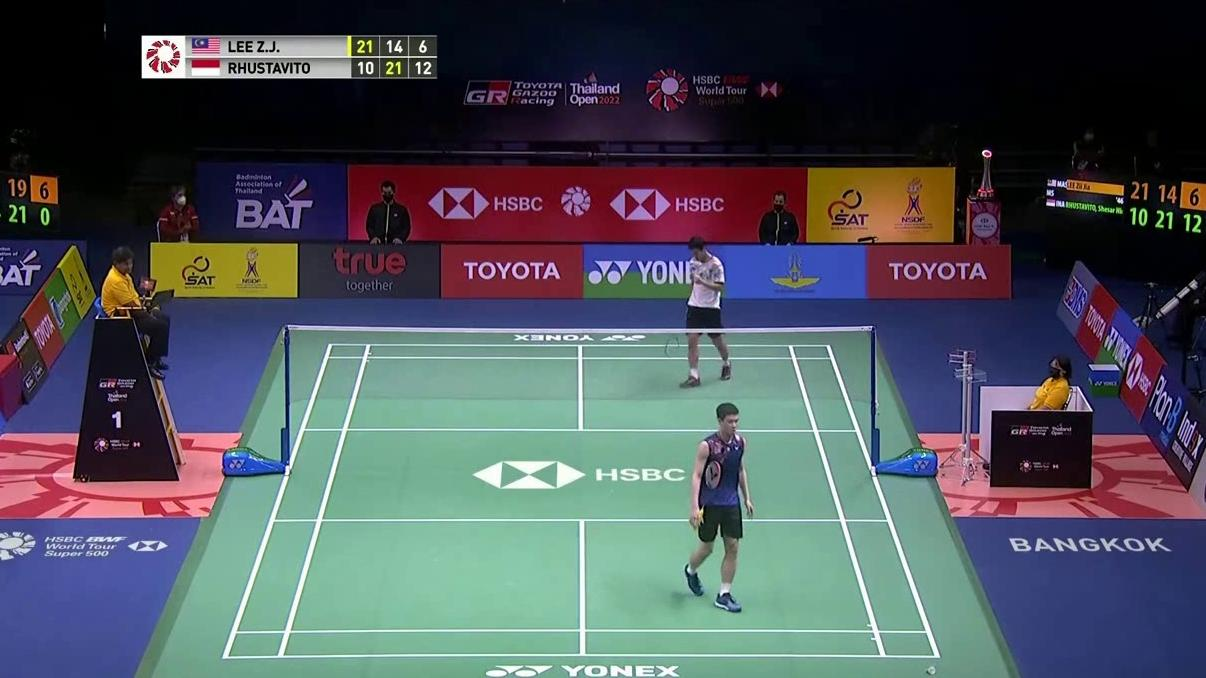racket: (695, 460, 723, 522), (664, 305, 693, 360)
shuttle: (924, 663, 938, 678)
